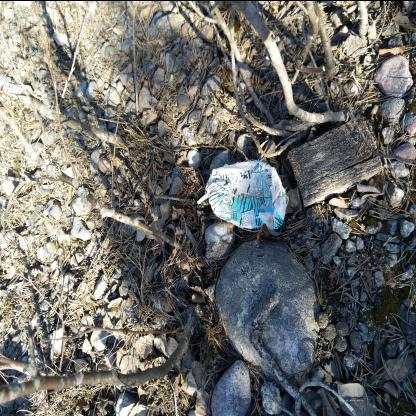karton: (196, 158, 290, 230)
